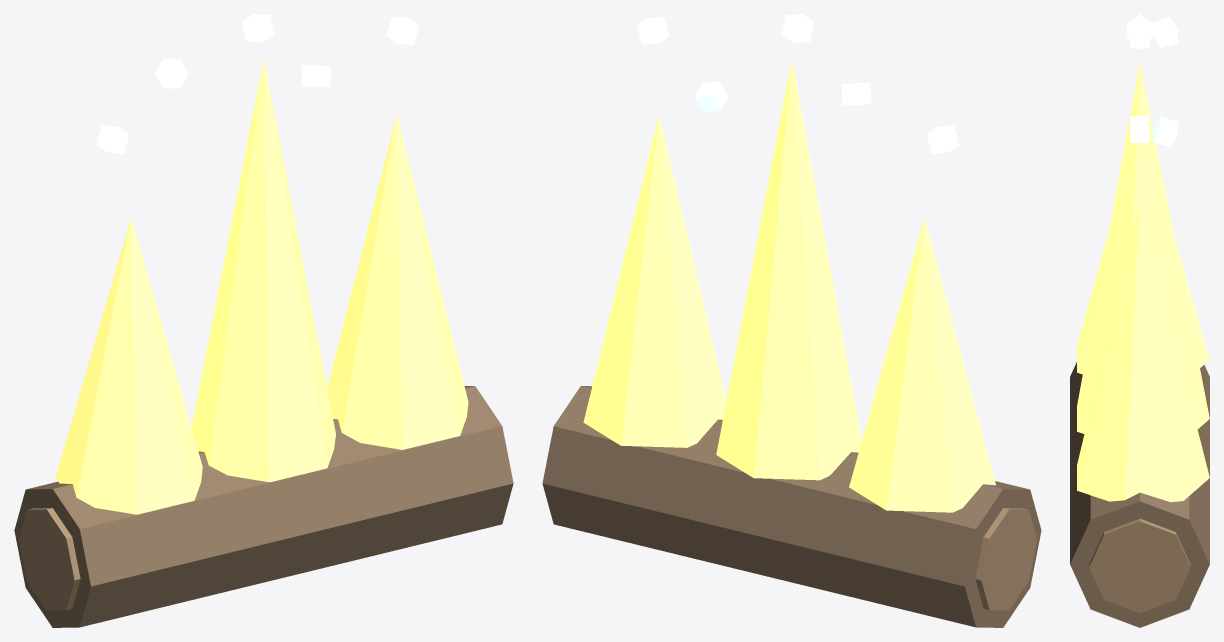
Rendered from item_wildfire.glb.
3 views of the same model, side by side, from view 1: azimuth 30°, elevation 25°; view 2: azimuth 150°, elevation 25°; view 3: azimuth 270°, elevation 25° (orthographic). The views are drawn at different scales.
Parts seen in each view (by area): view 1: item_wildfire; view 2: item_wildfire; view 3: item_wildfire.
Part boxes in pixels (box(x1,y1,x2,y2)): item_wildfire: box(14, 14, 513, 627); item_wildfire: box(542, 14, 1041, 627); item_wildfire: box(1070, 14, 1209, 627).
Size of the model in its own units: 0.72 by 0.8947 by 0.22.
